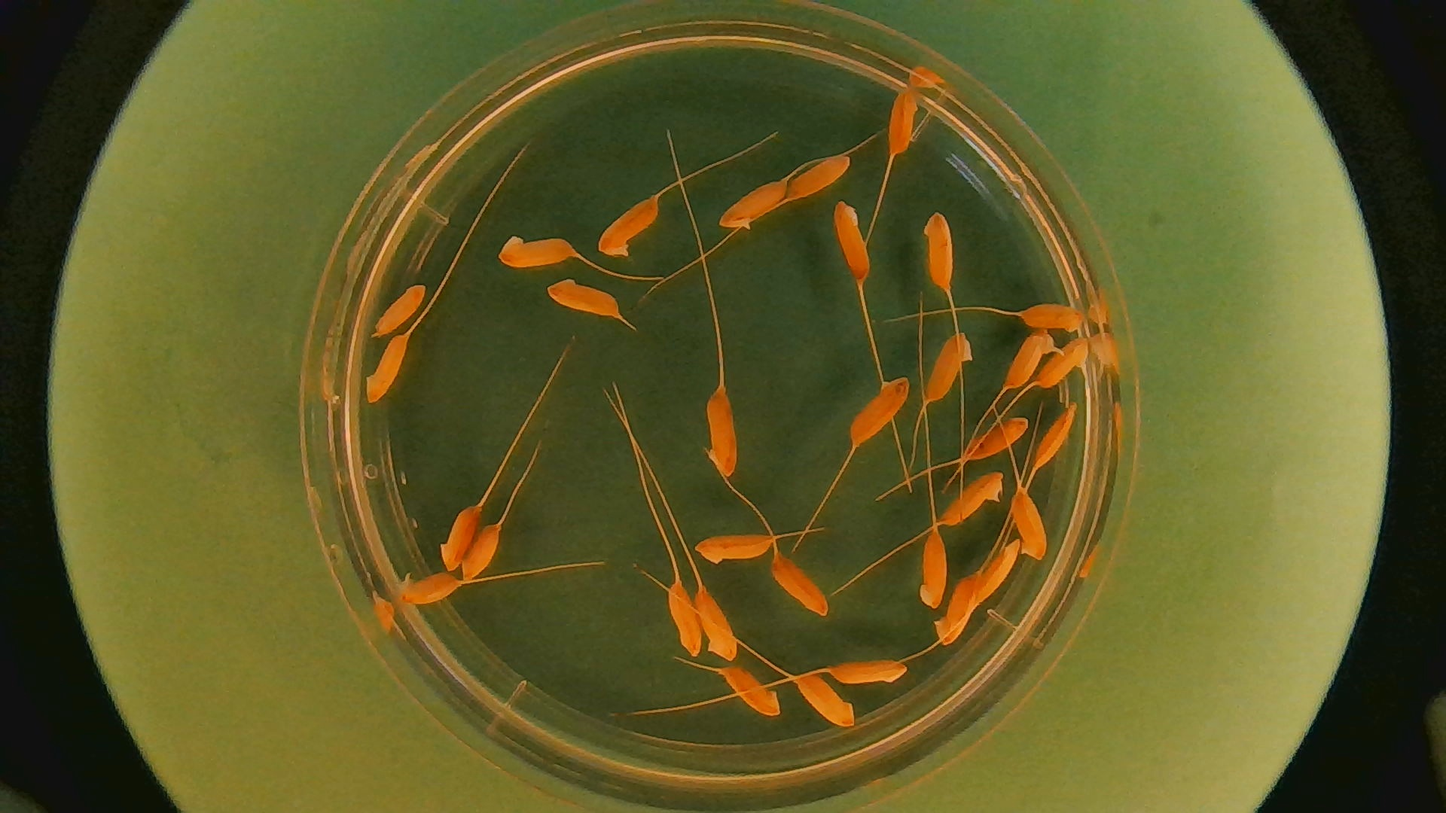no: (934, 464, 1003, 527), (598, 192, 662, 256), (850, 378, 913, 443), (926, 330, 978, 408), (1030, 397, 1082, 475), (716, 177, 791, 228), (956, 416, 1030, 467), (934, 575, 985, 647), (768, 556, 828, 617), (718, 664, 782, 720), (694, 587, 741, 662), (783, 153, 848, 206), (493, 233, 577, 274), (664, 577, 703, 664), (368, 285, 429, 339), (795, 674, 854, 729), (705, 386, 740, 477), (913, 528, 950, 609), (837, 199, 874, 279), (439, 501, 482, 569), (367, 333, 407, 403), (1013, 488, 1049, 565), (923, 212, 958, 290), (692, 528, 771, 562), (460, 524, 504, 583), (548, 281, 616, 319), (888, 82, 923, 152), (980, 538, 1017, 604), (1018, 300, 1084, 336), (831, 662, 911, 687)
yes: (1033, 334, 1093, 388), (1005, 329, 1049, 388), (397, 568, 462, 607)
